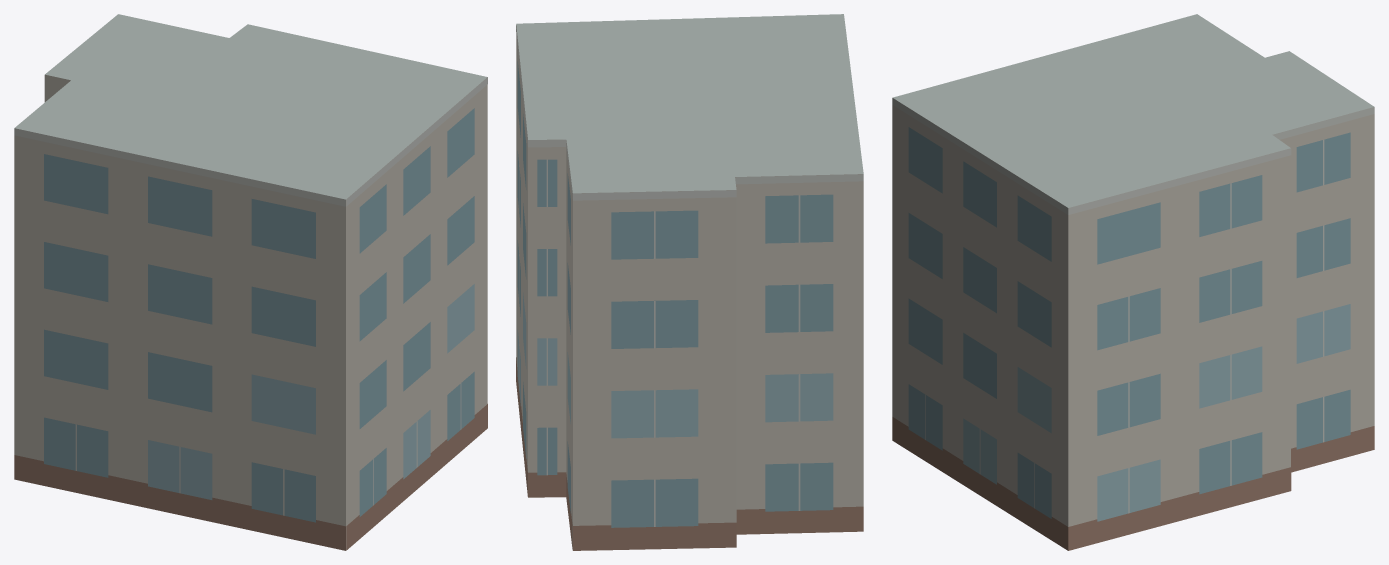
Rendered from survey-upis-32688162.glb.
The picture shows the model from 3 angles, left to right: view 1: azimuth 30°, elevation 25°; view 2: azimuth 150°, elevation 25°; view 3: azimuth 270°, elevation 25°; orthographic projection. The views are drawn at different scales.
Parts seen in each view (by area): view 1: survey-upis-32688162.tmp; view 2: survey-upis-32688162.tmp; view 3: survey-upis-32688162.tmp.
Part boxes in pixels (bbox=[...]): survey-upis-32688162.tmp: bbox=[14, 14, 487, 550]; survey-upis-32688162.tmp: bbox=[516, 14, 863, 550]; survey-upis-32688162.tmp: bbox=[892, 14, 1374, 550].
Bounding box in the file's own units: 14.33 × 11.8 × 15.05.
